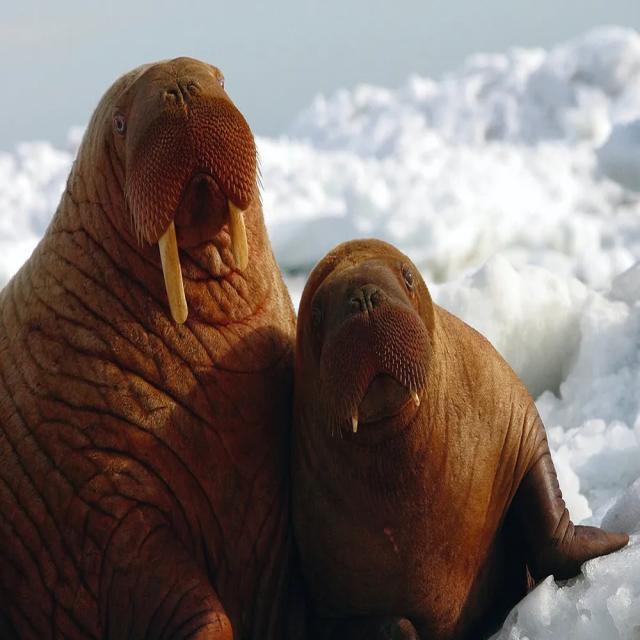walrus: (36, 39, 270, 568), (300, 216, 586, 575)
